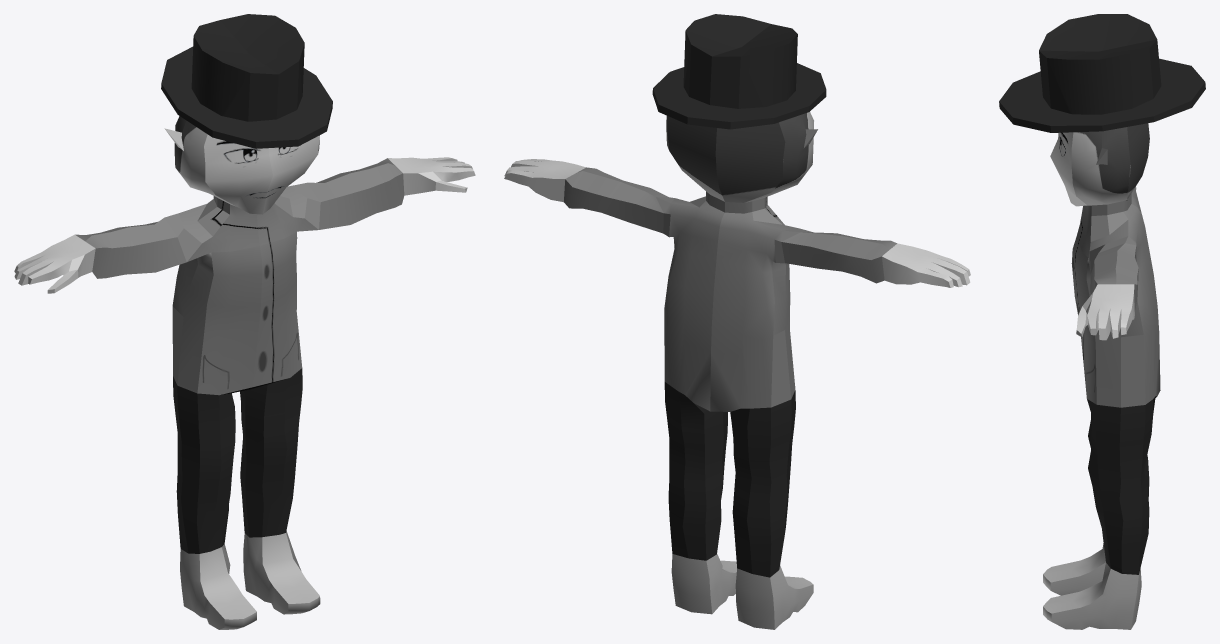
The model's file is Detective.fbx.
3 views of the same model, side by side, from view 1: azimuth 30°, elevation 25°; view 2: azimuth 150°, elevation 25°; view 3: azimuth 270°, elevation 25° (orthographic).
Parts seen in each view (by area): view 1: Detective; view 2: Detective; view 3: Detective.
Part boxes in pixels (<box>): Detective: <box>14,14,475,629</box>; Detective: <box>504,14,970,629</box>; Detective: <box>999,14,1205,629</box>.
Size of the model in its own units: 3.76 by 4.51 by 1.48.
